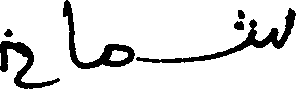ا: (65, 0, 77, 69)
خ: (0, 26, 58, 86)
ش: (220, 6, 294, 59)
م: (102, 42, 133, 68)
